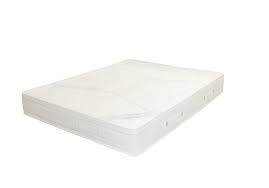bed-matress: (21, 58, 225, 158)
